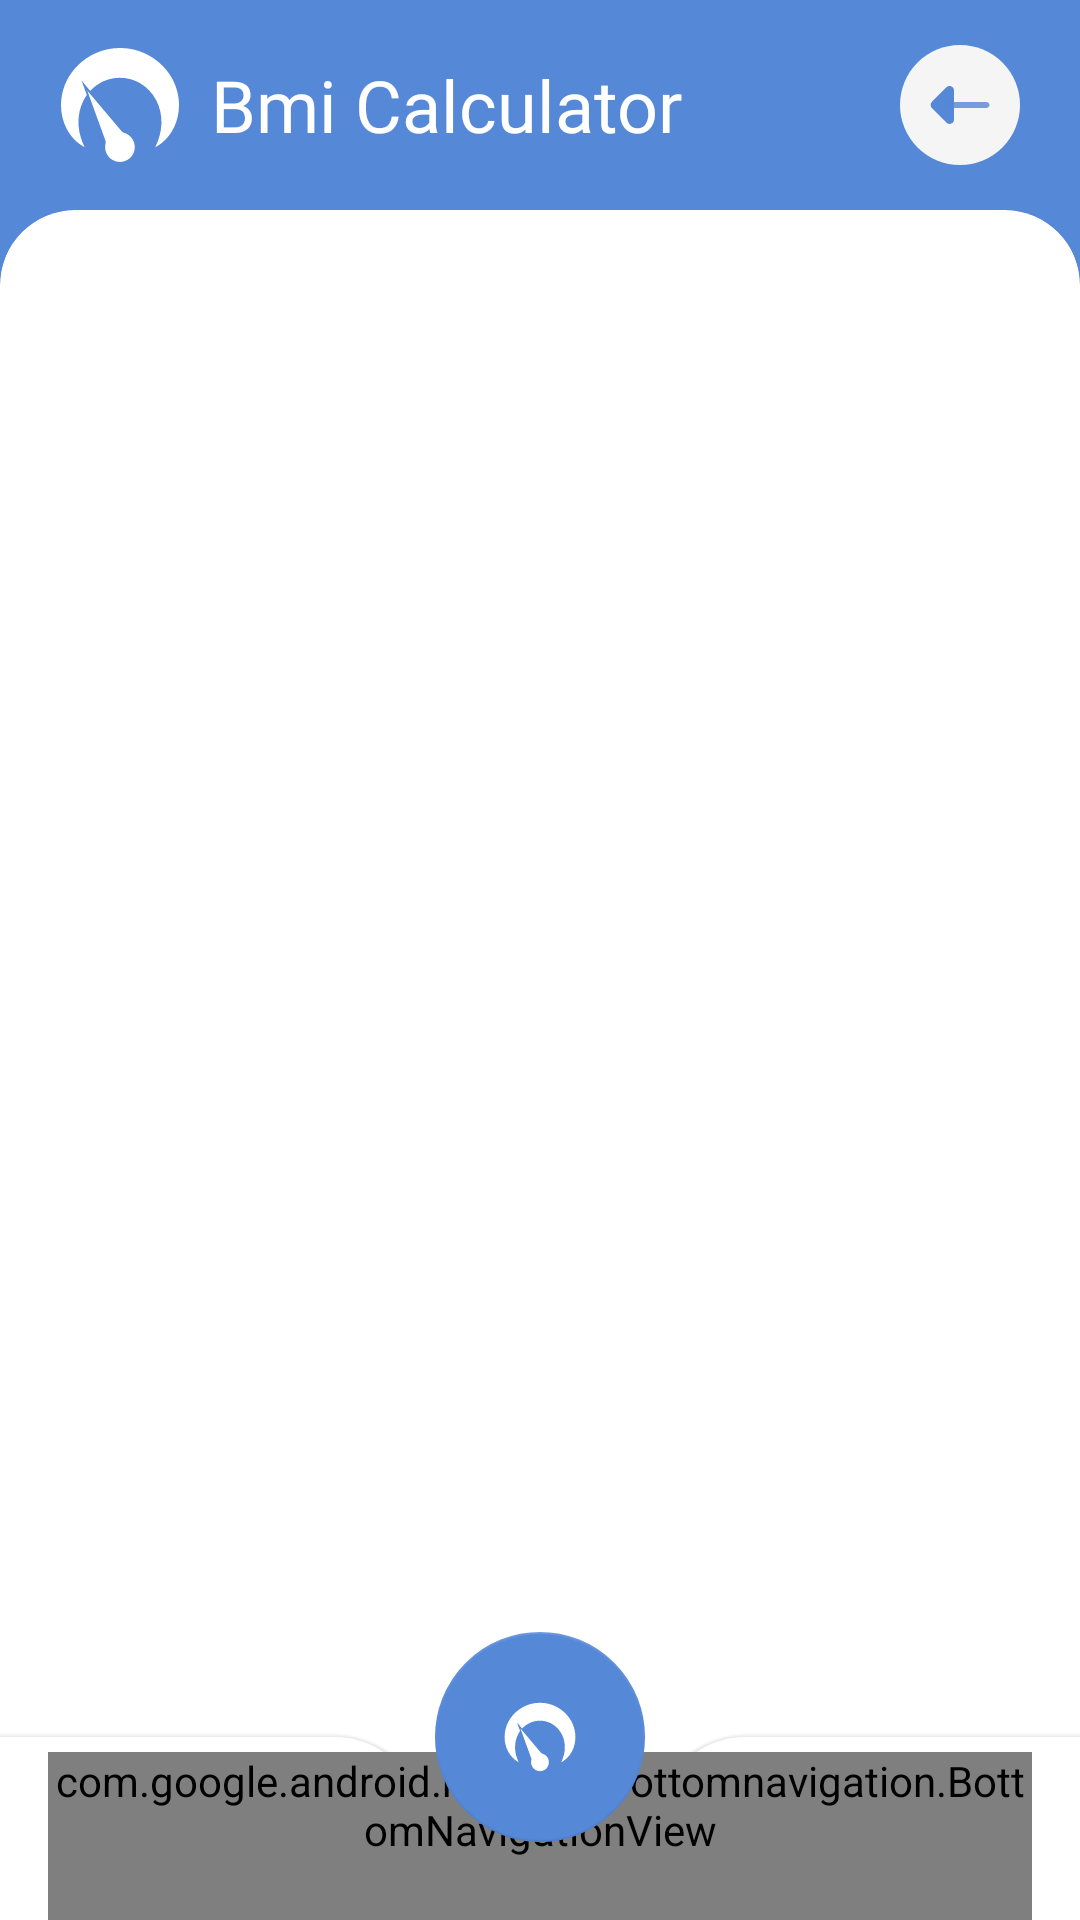

Where to tap for icons on this 1080*1920 app screen, as (x,y):
arrow: (960,105)
